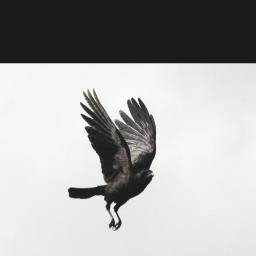Crow: (67, 88, 159, 234)
